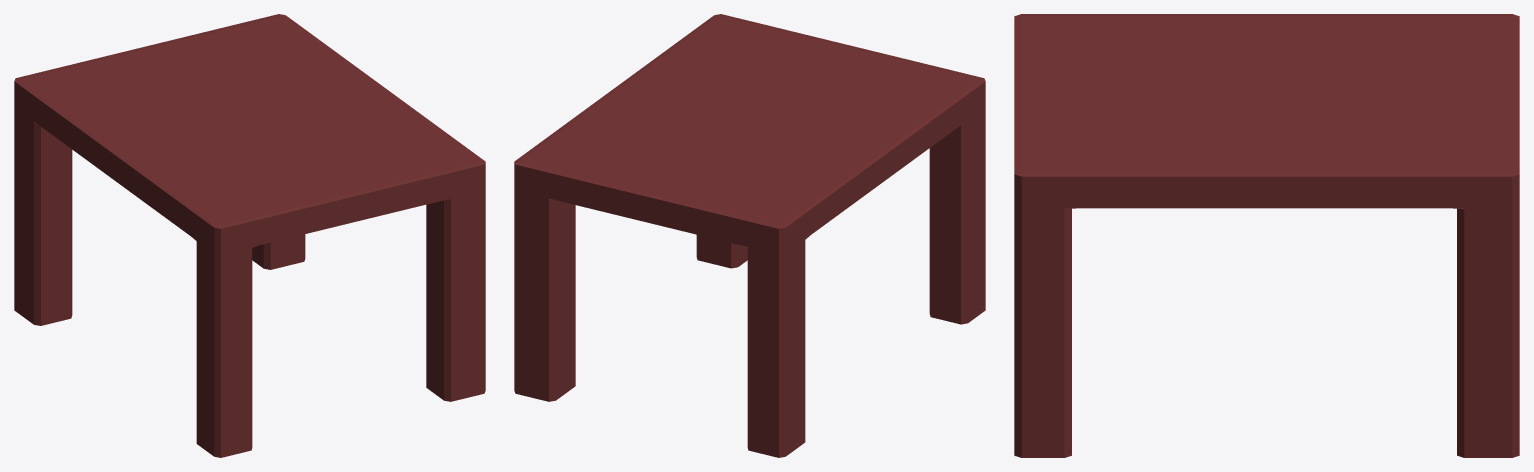
Rendered from Table.fbx.
The picture shows the model from 3 angles, left to right: view 1: azimuth 30°, elevation 25°; view 2: azimuth 150°, elevation 25°; view 3: azimuth 270°, elevation 25°; orthographic projection. The views are drawn at different scales.
Visible parts, largest first — view 1: Cube.001; view 2: Cube.001; view 3: Cube.001.
Boxes of the visible parts, <box> form: Cube.001: <box>14,14,485,457</box>; Cube.001: <box>514,14,985,457</box>; Cube.001: <box>1014,14,1519,457</box>.
Bounding box in the file's own units: 200 × 162 × 263.
